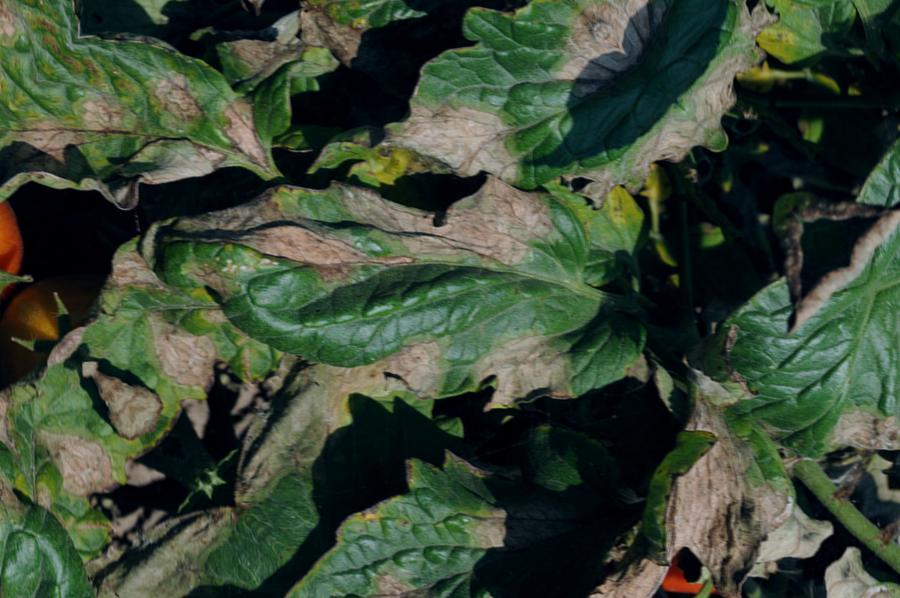Tomato leaf late blight: (117, 17, 686, 581), (345, 0, 718, 326), (0, 0, 315, 367), (522, 311, 900, 598), (290, 371, 643, 598), (664, 210, 900, 522)
